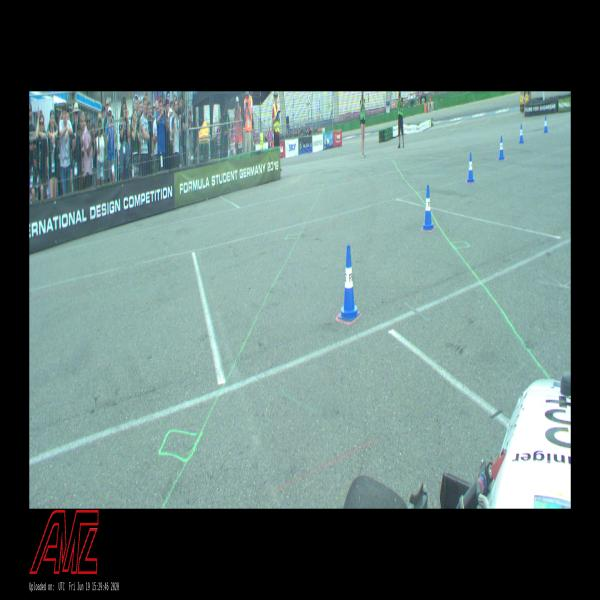blue_cone: (338, 245, 360, 322), (422, 185, 435, 230), (466, 152, 475, 182), (498, 136, 504, 160), (519, 124, 524, 144), (544, 116, 548, 132)
